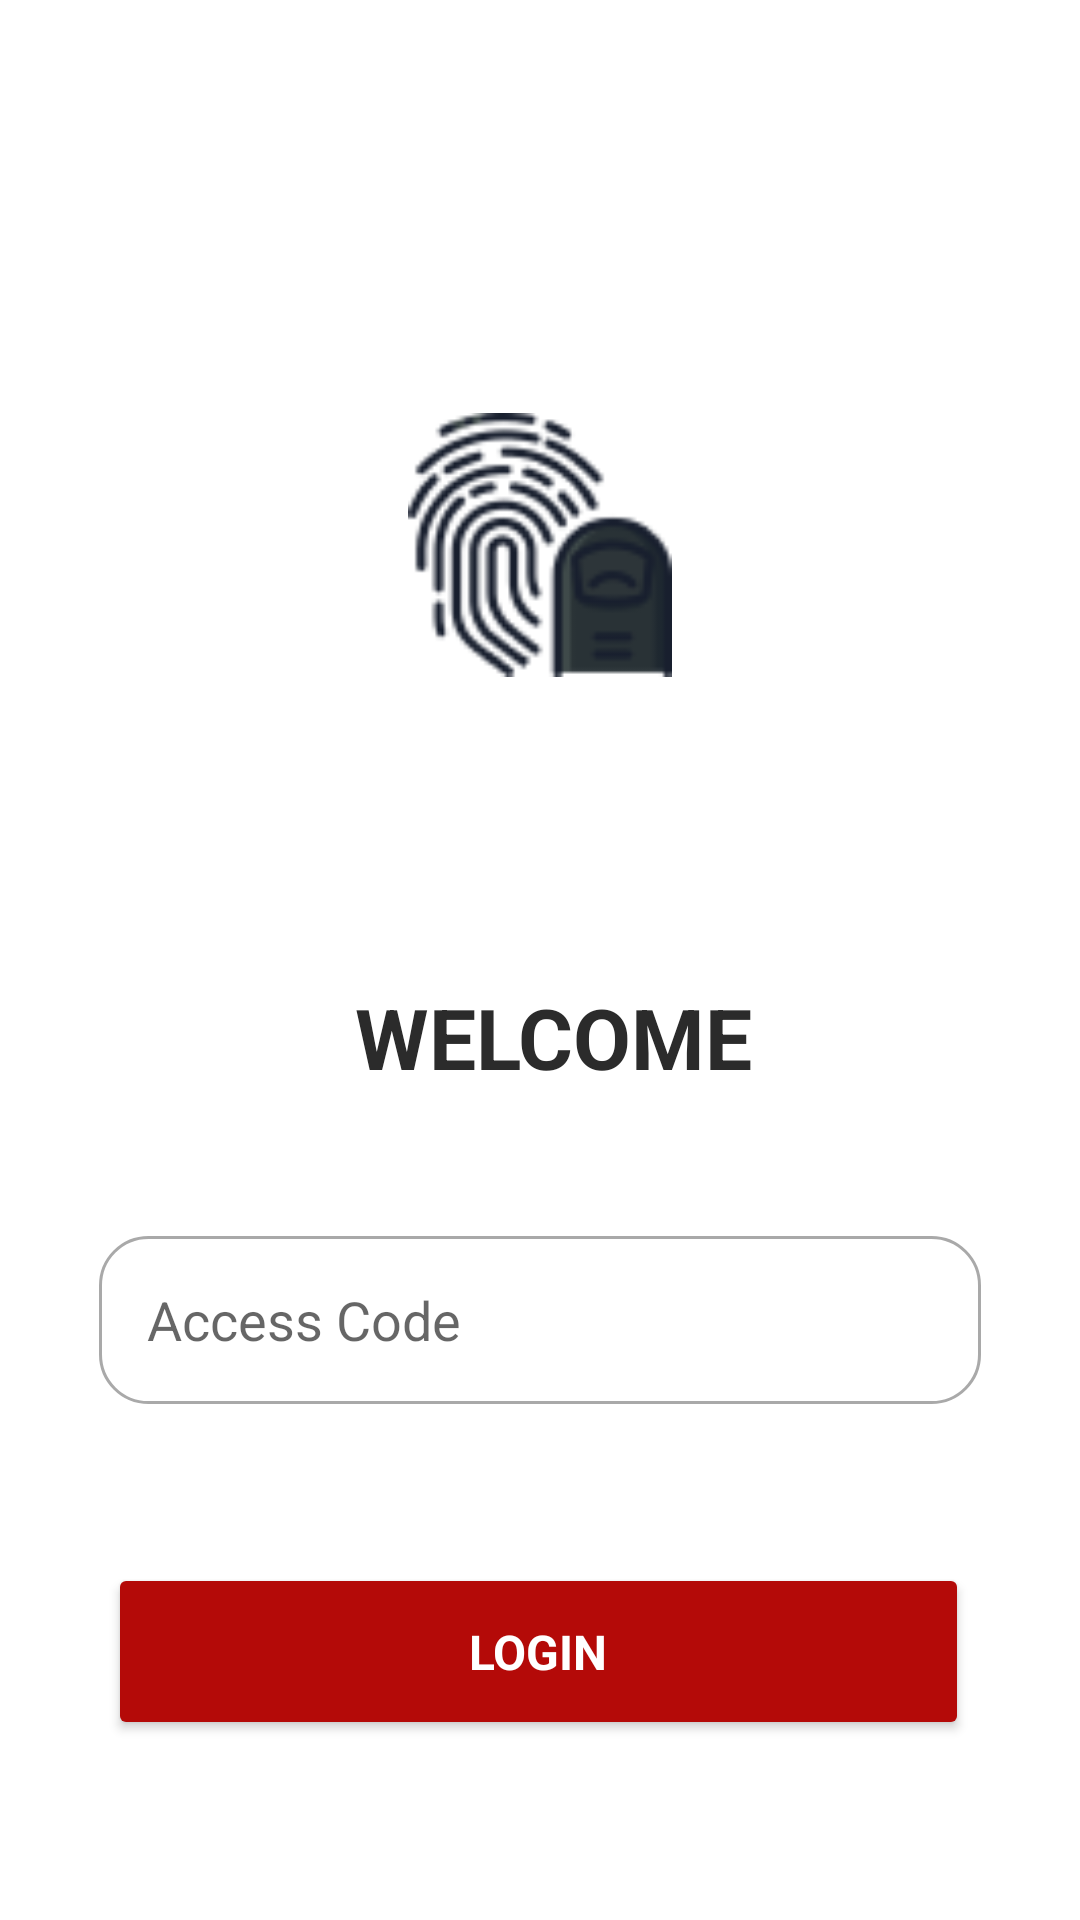

Icons on this 1080px x 1920px Android screen, each with the point to tap as [x,y]:
fingerprint: [540,545]
